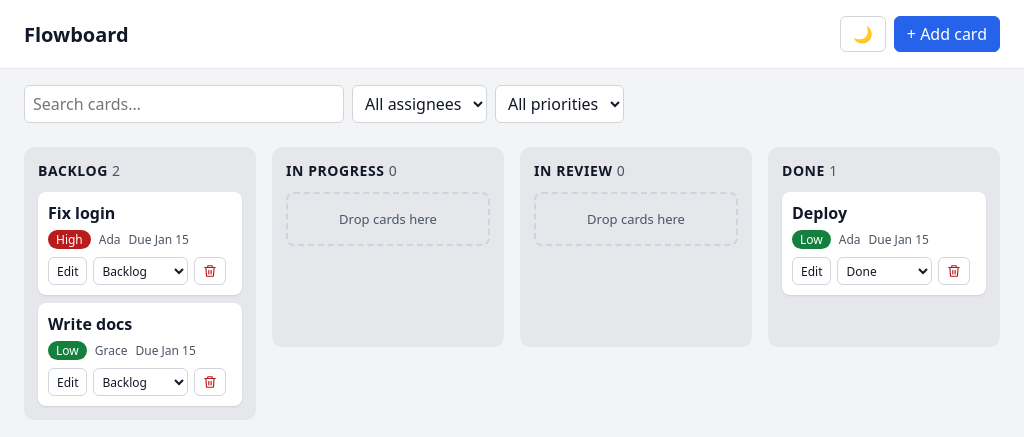
Test: search and filters › assignee and priority filters combine, and Clear resets them
Expected: the element "Backlog" is shown, [24, 147, 256, 420]
Select "Ada" in the dropdown named "Filter by assignee" at (420, 104), box [352, 85, 487, 123]
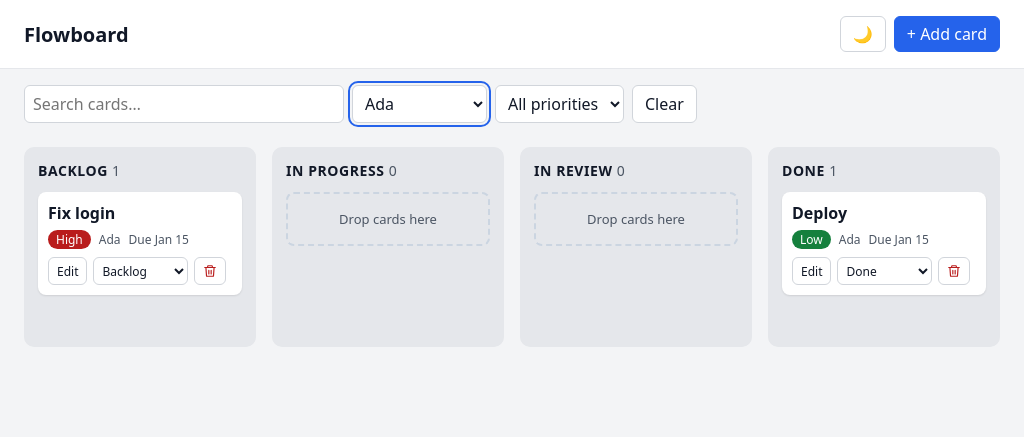
Select "Low" in the dropdown named "Filter by priority" at (560, 104), box [495, 85, 624, 123]
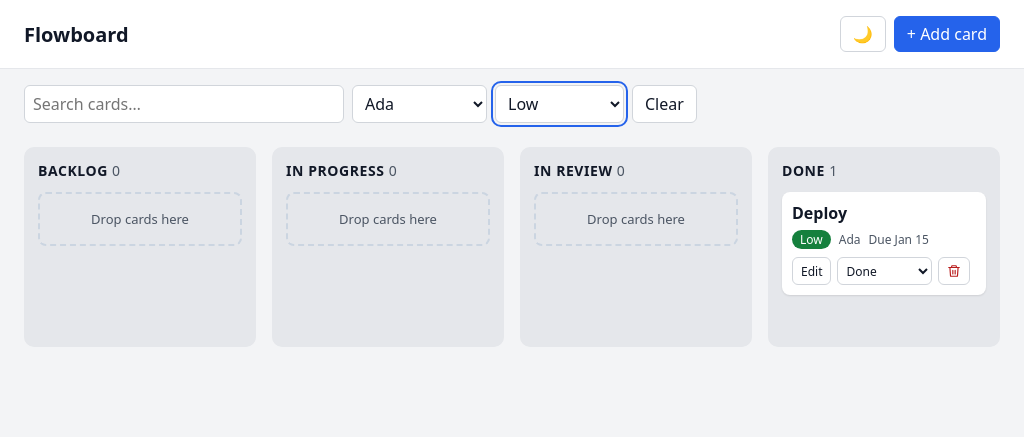
Click the button "Clear" at (664, 104), box [632, 85, 697, 123]
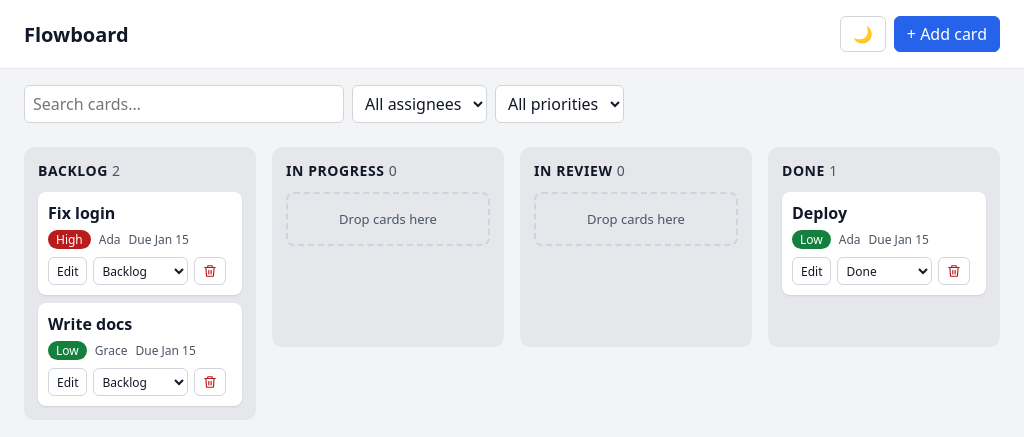
Expected: the button "Clear" is gone
